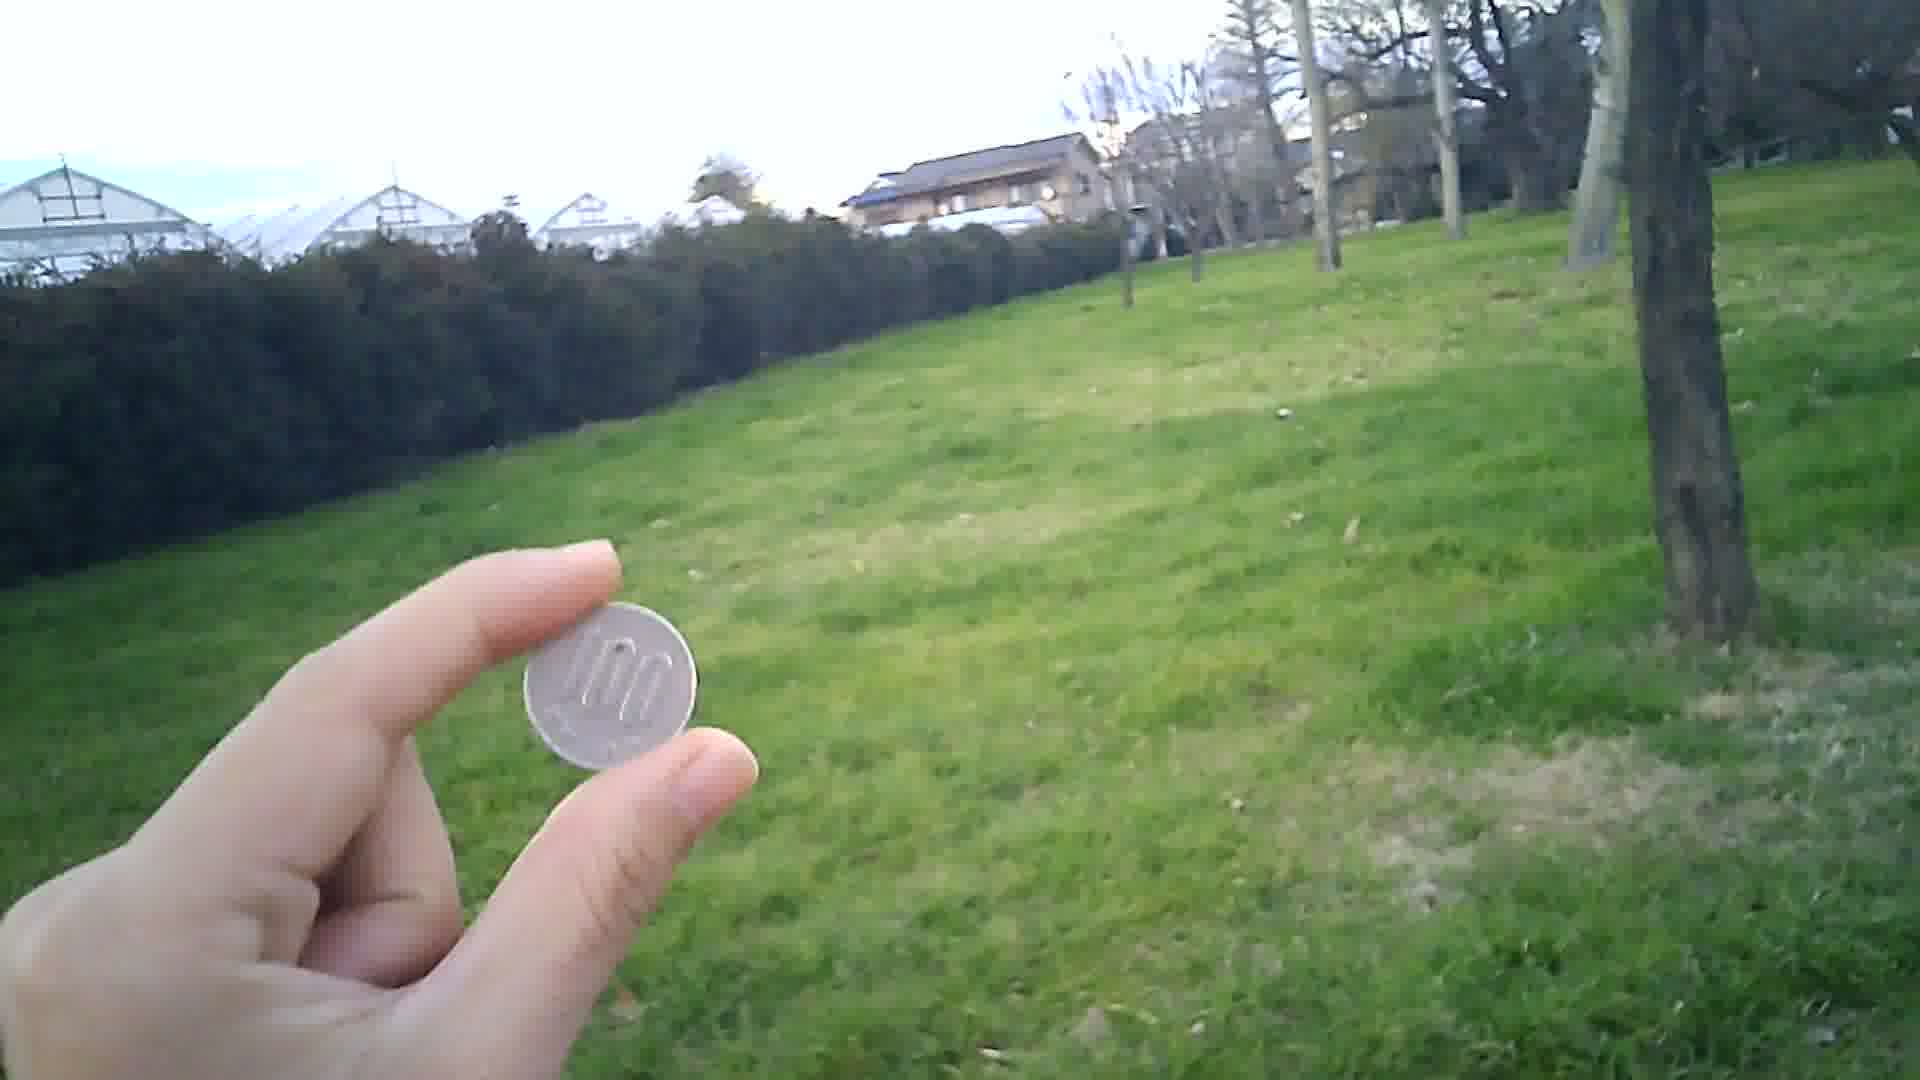100 Yen: (518, 593, 705, 781)
